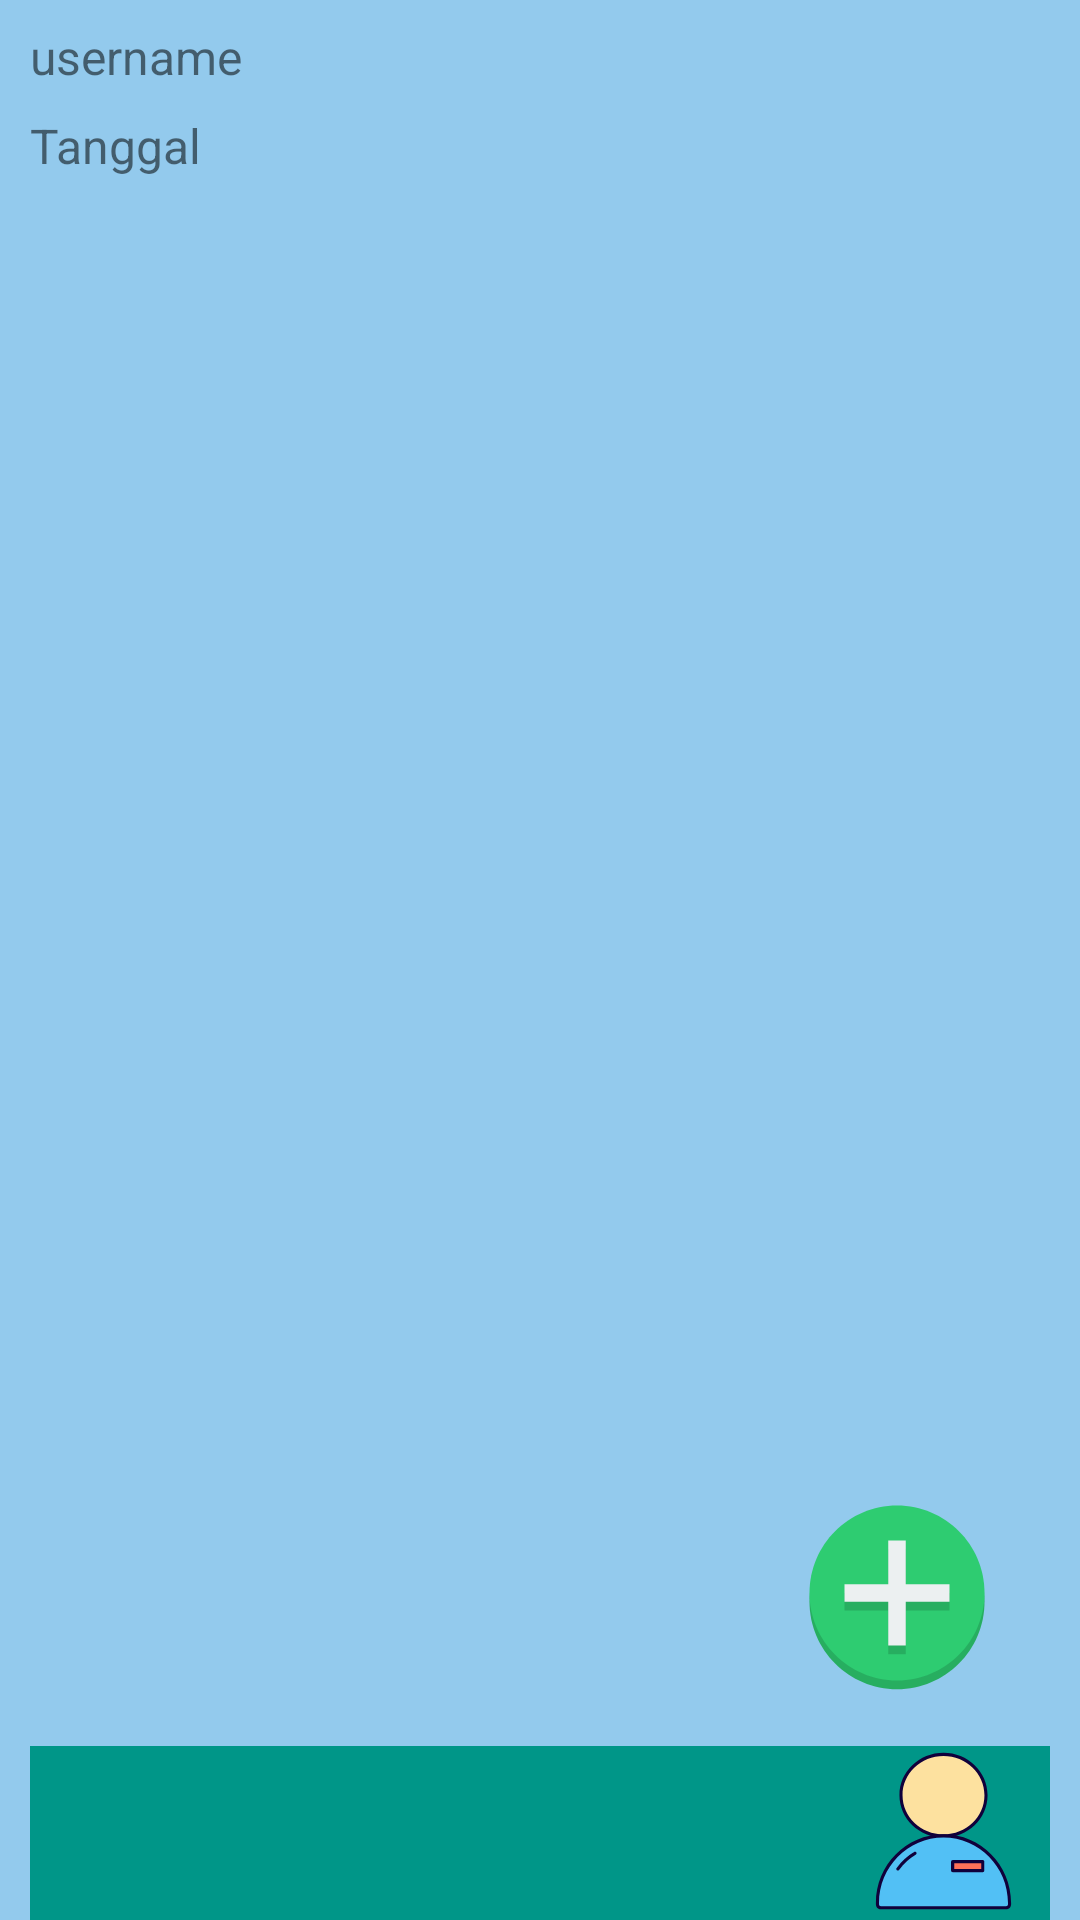

Named icons in this screenshot (1080×1920) and their bounding boxes, Rect(x1, y1, x2, y2):
add: Rect(809, 1505, 985, 1690)
profile: Rect(876, 1752, 1011, 1910)
